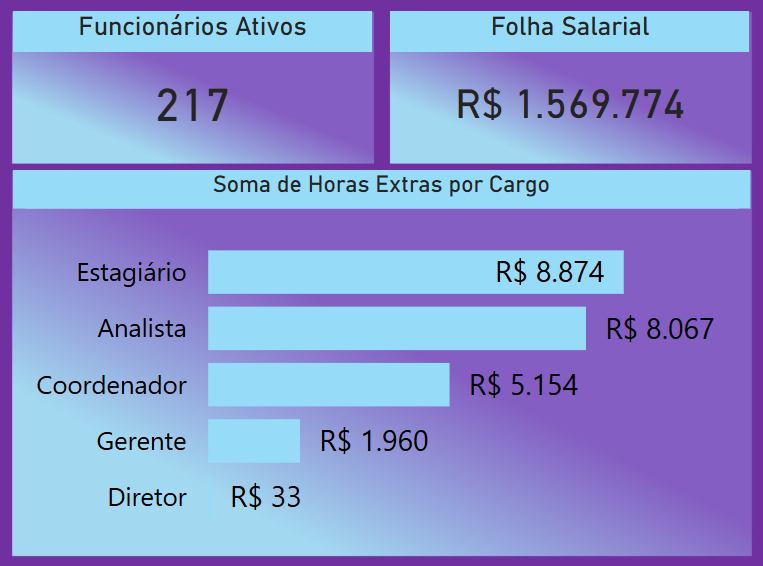

This screenshot's page, from the dashboard's own definition file:
{"tool":"powerbi","page":{"name":"Dica 01 ","canvas":[320,240],"ordinal":1},"visuals":[{"type":"card","title":"Funcionários Ativos ","fields":{"Values":["medidas.func ativos"]},"box":[7.2,6.7,149,66],"z":0},{"type":"card","title":"Folha Salarial ","fields":{"Values":["Sum(Plan1.Salario)"]},"box":[163.4,6.7,149.5,66],"z":1},{"type":"barChart","fields":{"Category":["Plan1.Cargo"],"Y":["Sum(Plan1.Horas Extras)"]},"box":[7.2,72.7,305.7,159.8],"z":2}]}

Visuals, with their boxes in screenshot pixels (x1, y1, x2, y2), scaled from the page's 320x240 canvas onto the 763x566 screenshot:
"Funcionários Ativos " card: rect(17, 16, 372, 171)
"Folha Salarial " card: rect(390, 16, 746, 171)
barChart - Plan1.Cargo x Sum(Plan1.Horas Extras): rect(17, 171, 746, 548)
